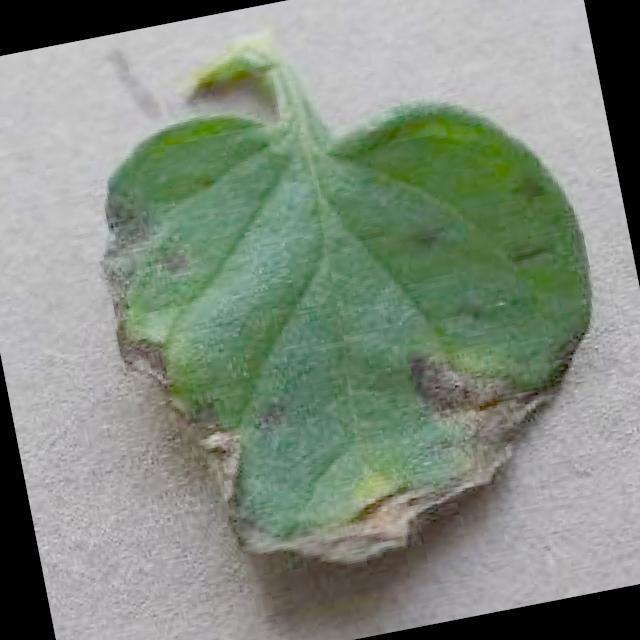Tomato Early blight leaf: (77, 52, 640, 598)
